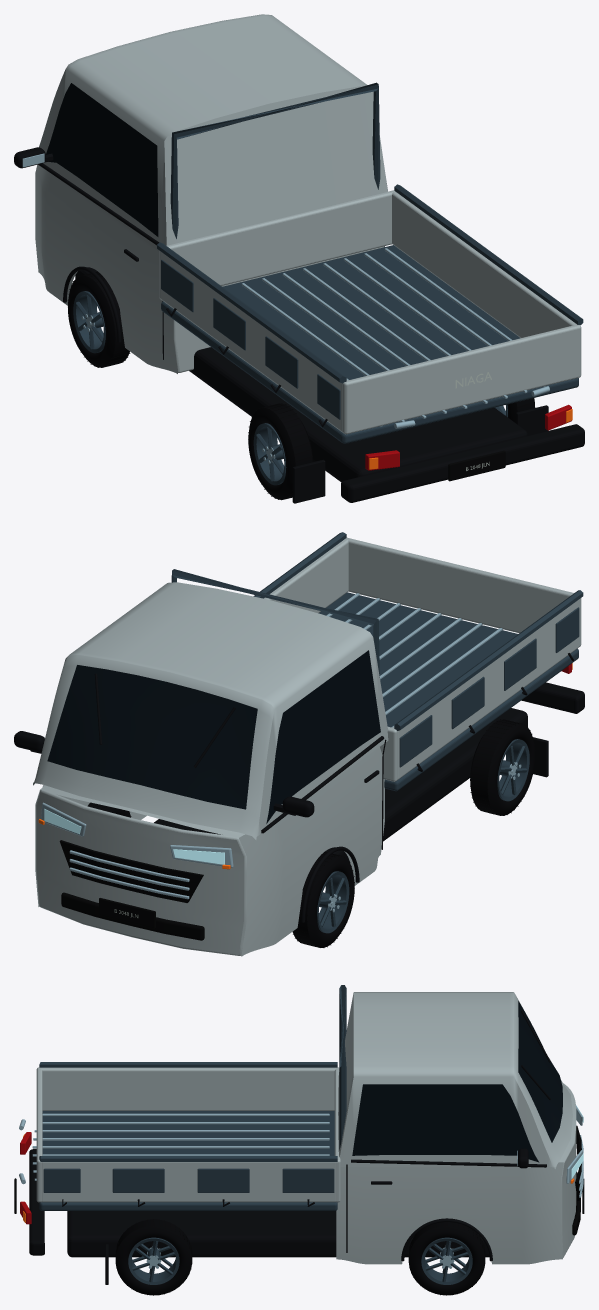
Rendered from Body.fbx.
3 renders of one model, top to bottom at view 1: azimuth 30°, elevation 25°; view 2: azimuth 150°, elevation 25°; view 3: azimuth 270°, elevation 25°, orthographic. The views are drawn at different scales.
Parts seen in each view (by area): view 1: Body_Mesh, Wheel_RL_Mesh, Wheel_FL_Mesh, TailLights_Mesh; view 2: Body_Mesh, Wheel_RL_Mesh, Wheel_FL_Mesh, Headlights_Mesh; view 3: Body_Mesh, Wheel_RR_Mesh, Wheel_FR_Mesh.
Part boxes in pixels (x1,y1,x2,y2): Body_Mesh: [14, 14, 584, 503]; Wheel_RL_Mesh: [248, 403, 313, 500]; Wheel_FL_Mesh: [67, 271, 130, 367]; TailLights_Mesh: [365, 404, 571, 470]; Body_Mesh: [14, 532, 584, 956]; Wheel_RL_Mesh: [470, 719, 535, 815]; Wheel_FL_Mesh: [292, 851, 354, 947]; Headlights_Mesh: [41, 802, 233, 867]; Body_Mesh: [14, 985, 584, 1284]; Wheel_RR_Mesh: [115, 1219, 192, 1295]; Wheel_FR_Mesh: [408, 1222, 485, 1295].
Size of the model in its own units: 209 by 185 by 430.
